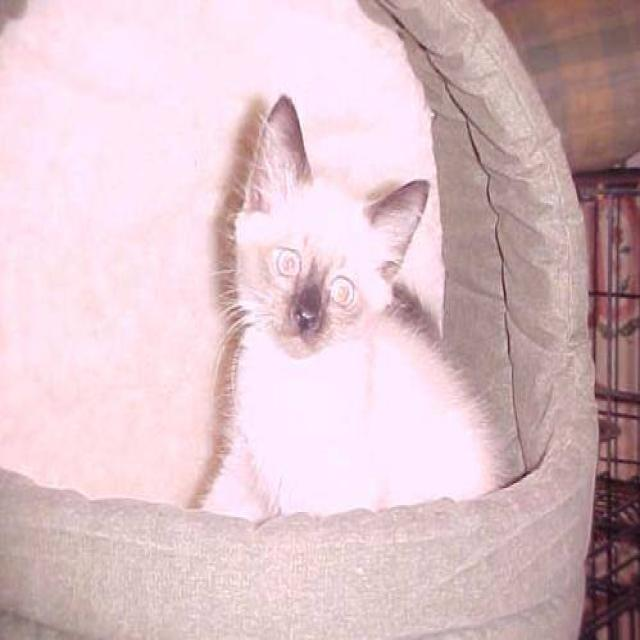cat: (186, 92, 504, 524)
